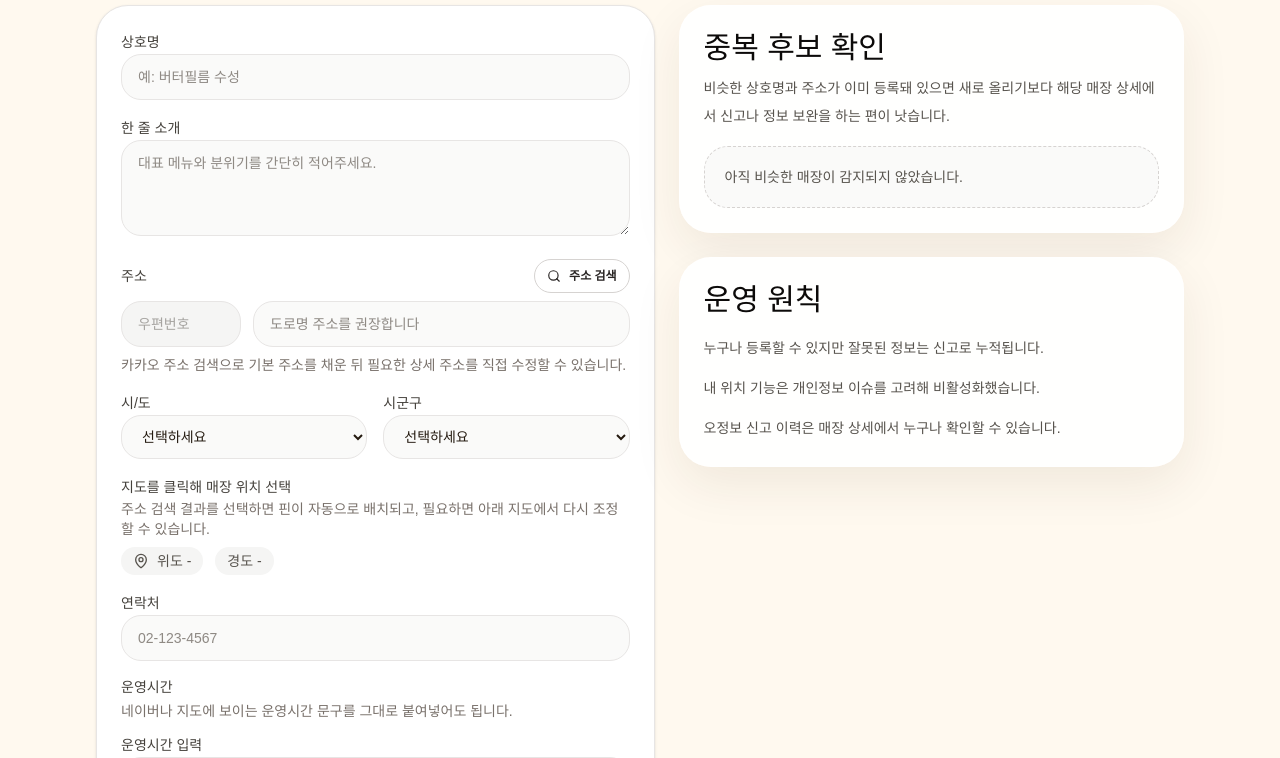
Test case: SubmissionHub › keeps the draft values when validation fails before submit
The width and height of the screenshot is (1280, 758).
Type "테스트 가게" into the field labelled "상호명" at (375, 77), box x1=121 y1=54 x2=630 y2=100
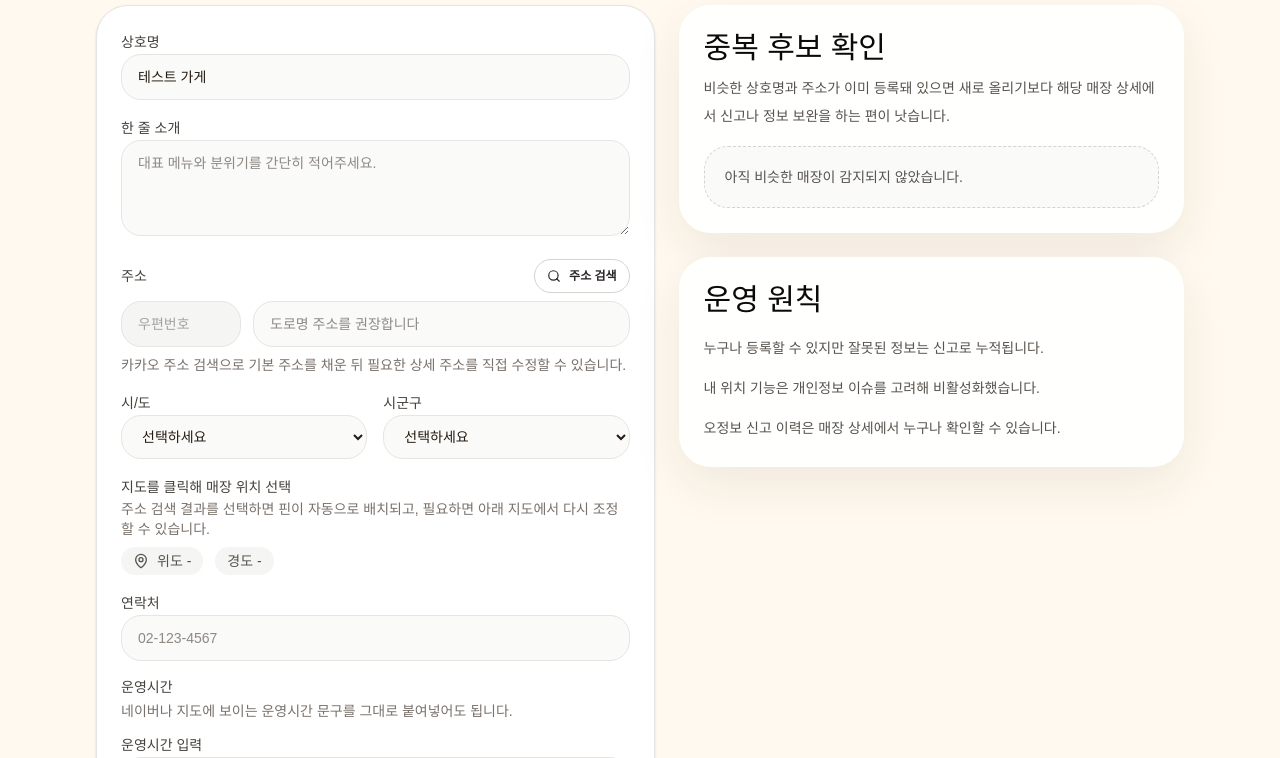
Type "서울특별시 중구 세종대로 110" into the field with placeholder "도로명 주소를 권장합니다" at (441, 324), box x1=253 y1=301 x2=630 y2=347
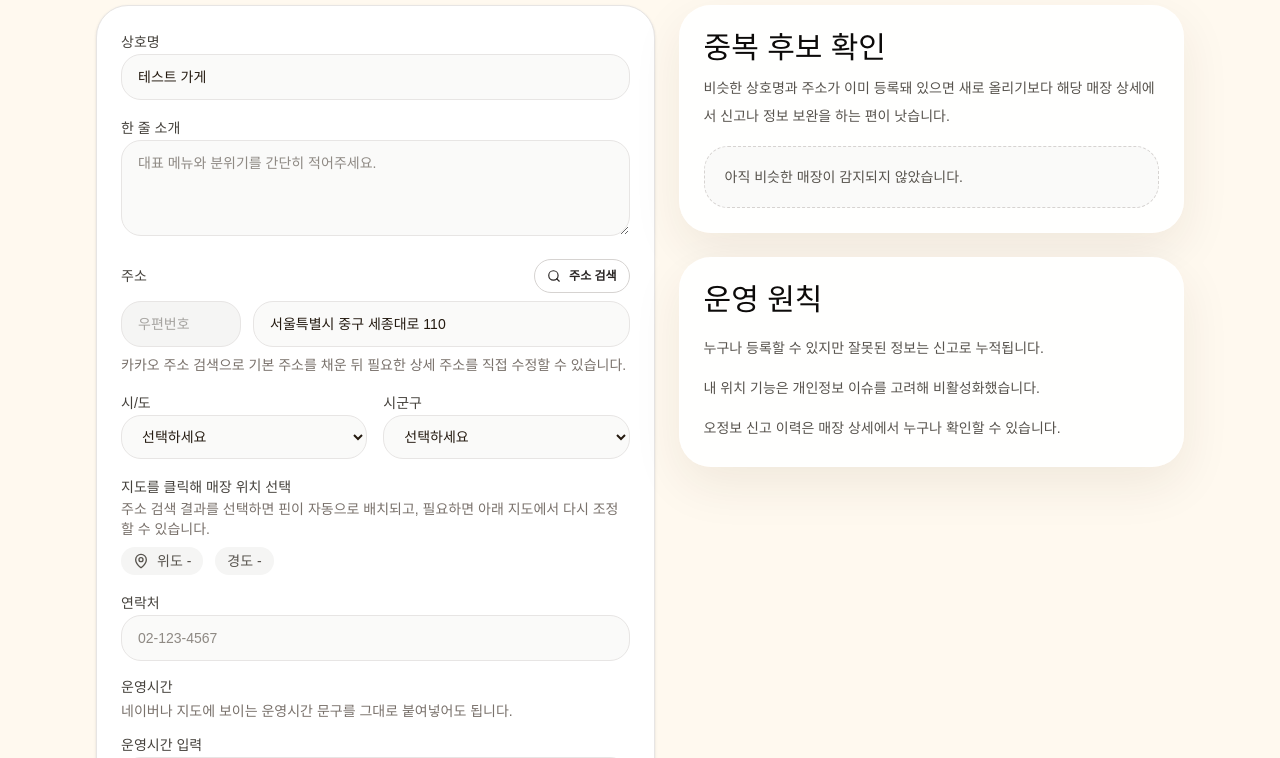
Select "서울특별시" in the dropdown labelled "시/도" at (244, 437), box x1=121 y1=415 x2=367 y2=459
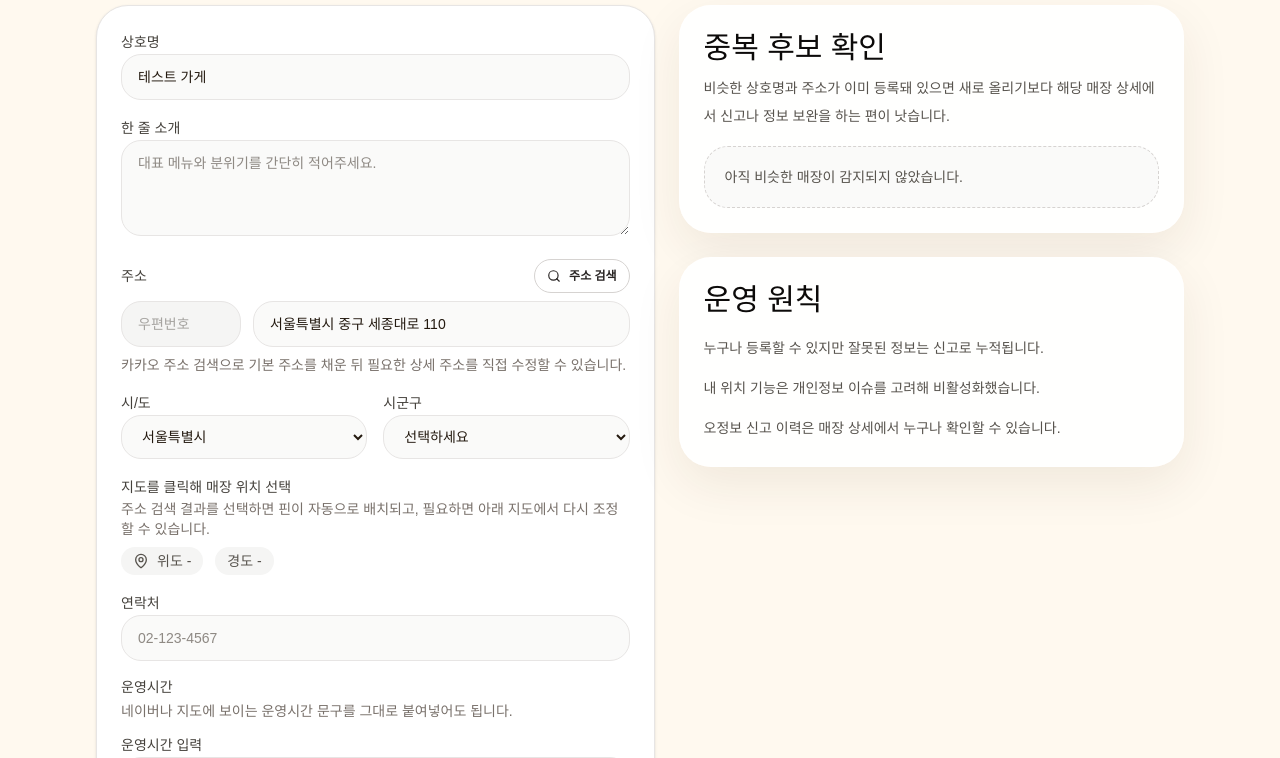
Select "중구" in the dropdown labelled "시군구" at (506, 437), box x1=383 y1=415 x2=630 y2=459
(page scrolled)
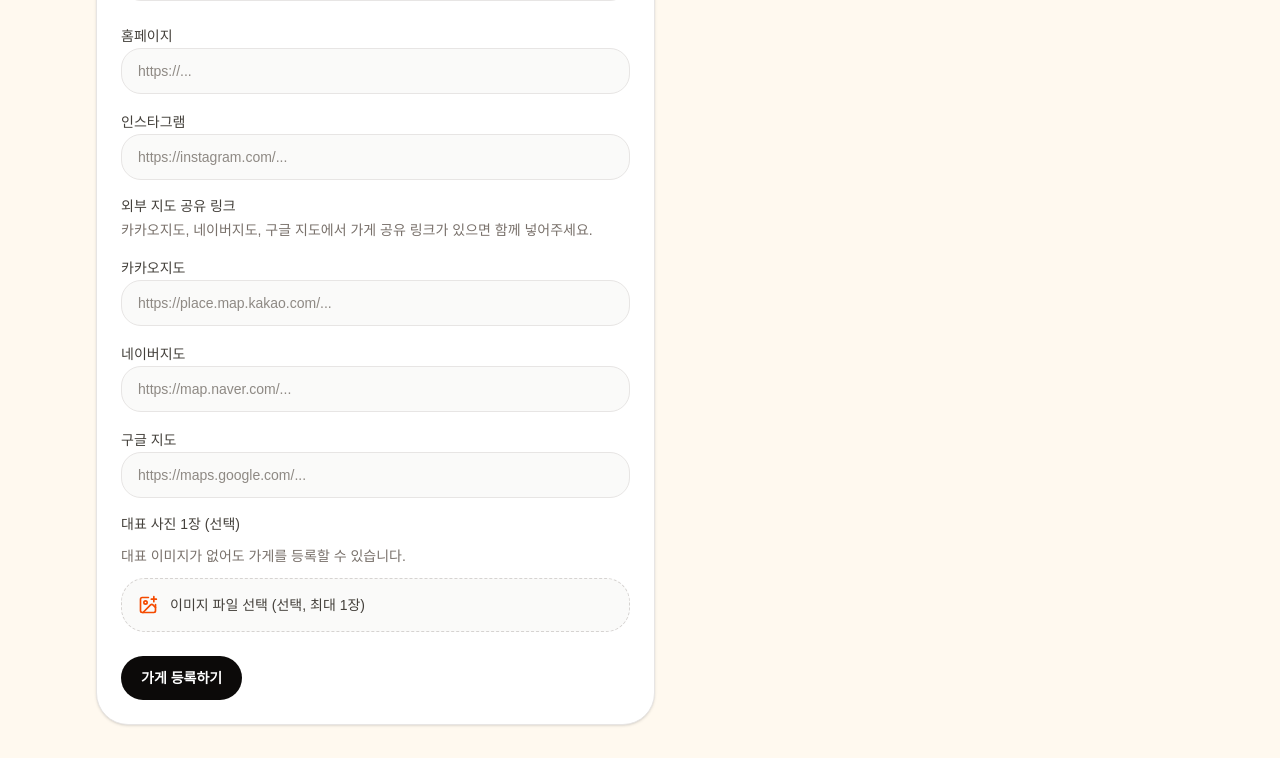
Click the button "가게 등록하기" at (182, 678), box x1=121 y1=656 x2=242 y2=700
(page scrolled)
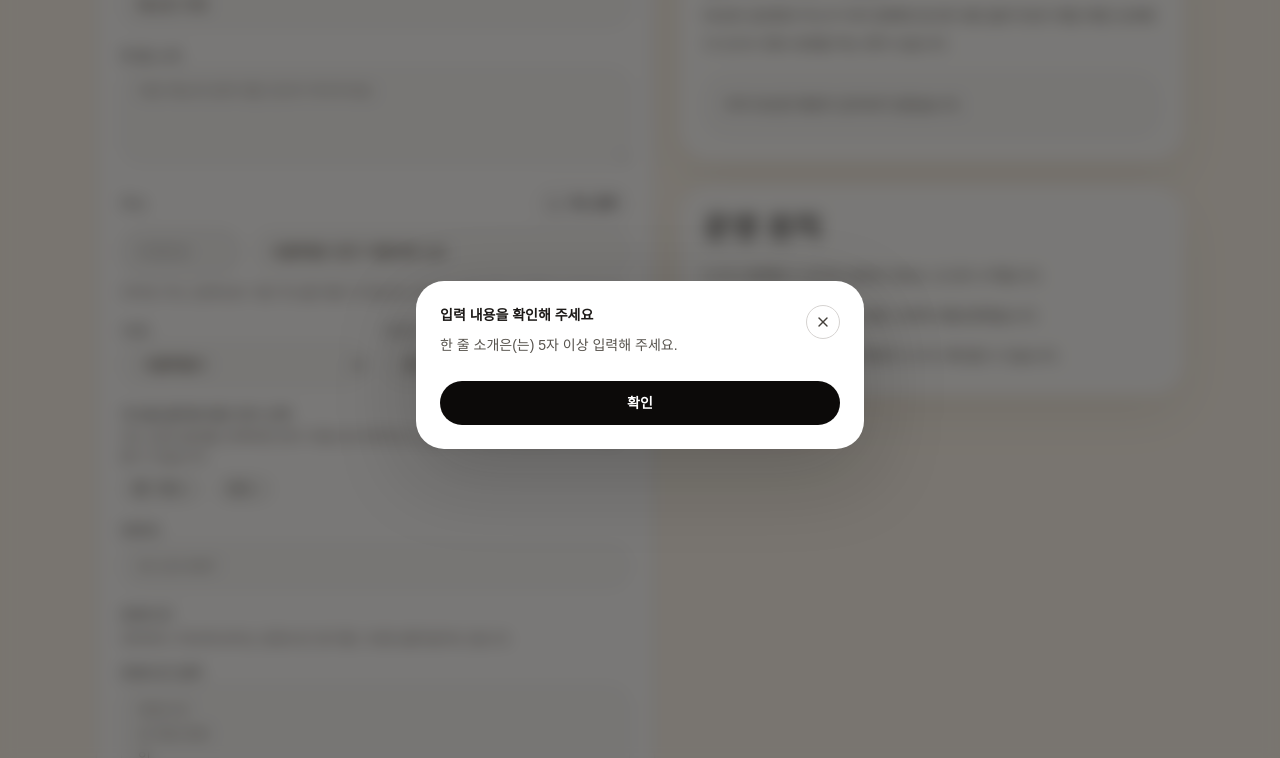
Check: the text "한 줄 소개은(는) 5자 이상 입력해 주세요." is shown, box x1=440 y1=333 x2=678 y2=357
